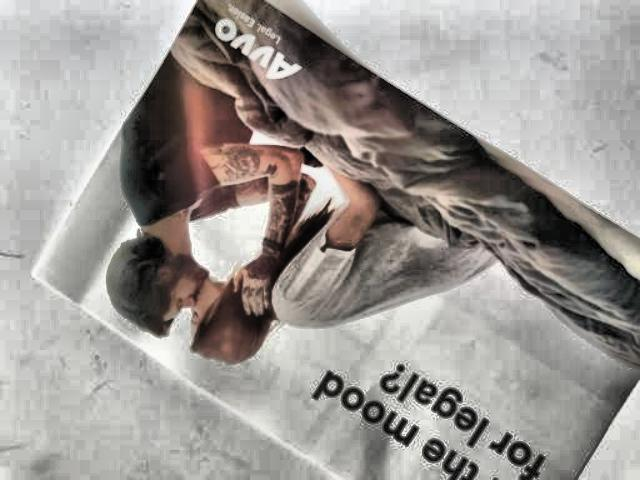Paper: (4, 0, 640, 480)
